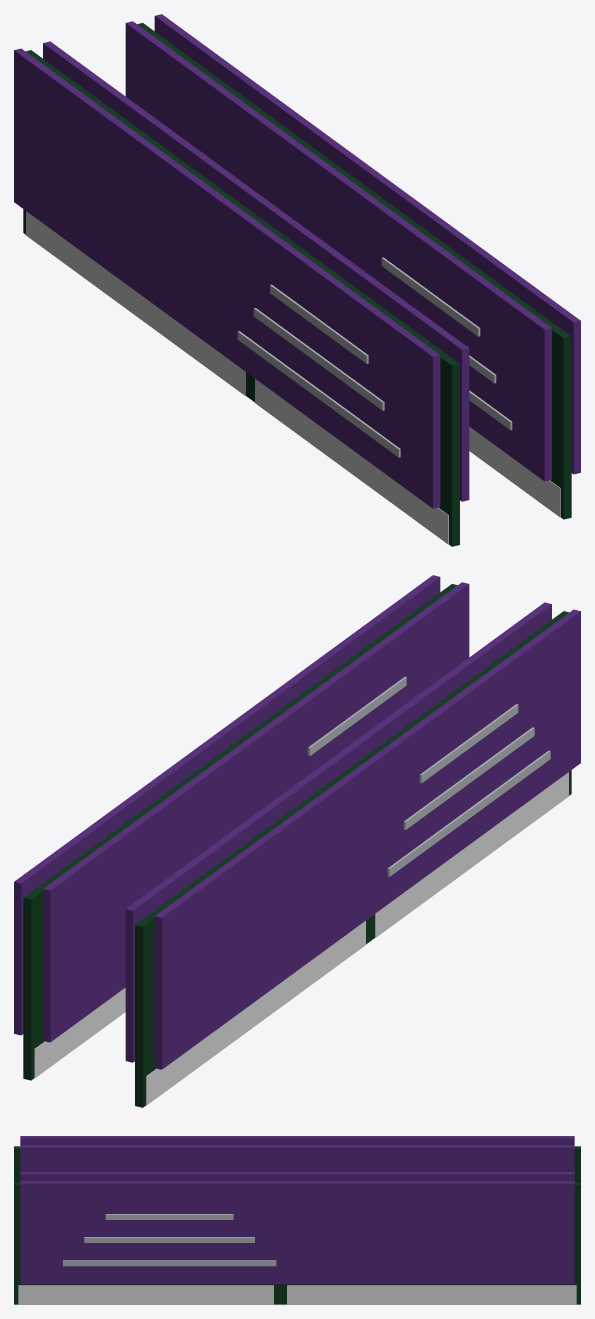
Rendered from hw_ram_ddr3_8gb.glb.
3 renders of one model, top to bottom at view 1: azimuth 30°, elevation 25°; view 2: azimuth 150°, elevation 25°; view 3: azimuth 270°, elevation 25°, orthographic. The views are drawn at different scales.
Parts seen in each view (by area): view 1: Stick_1, Body; view 2: Stick_1, Body; view 3: Body, Stick_1.
Boxes of the visible parts, x1,y1,x2,y2 form: Stick_1: (14,41,469,546); Body: (125,14,580,519); Stick_1: (125,602,580,1107); Body: (14,575,469,1080); Body: (14,1172,580,1304); Stick_1: (14,1136,580,1182).
Bounding box in the file's own units: 0.0272 × 0.0325 × 0.133.
